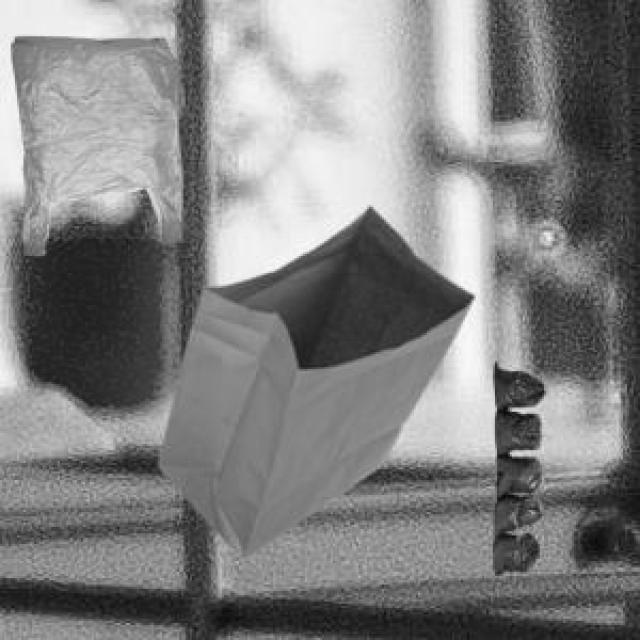miscellaneous trash: (489, 358, 542, 572)
paper: (154, 203, 469, 553)
